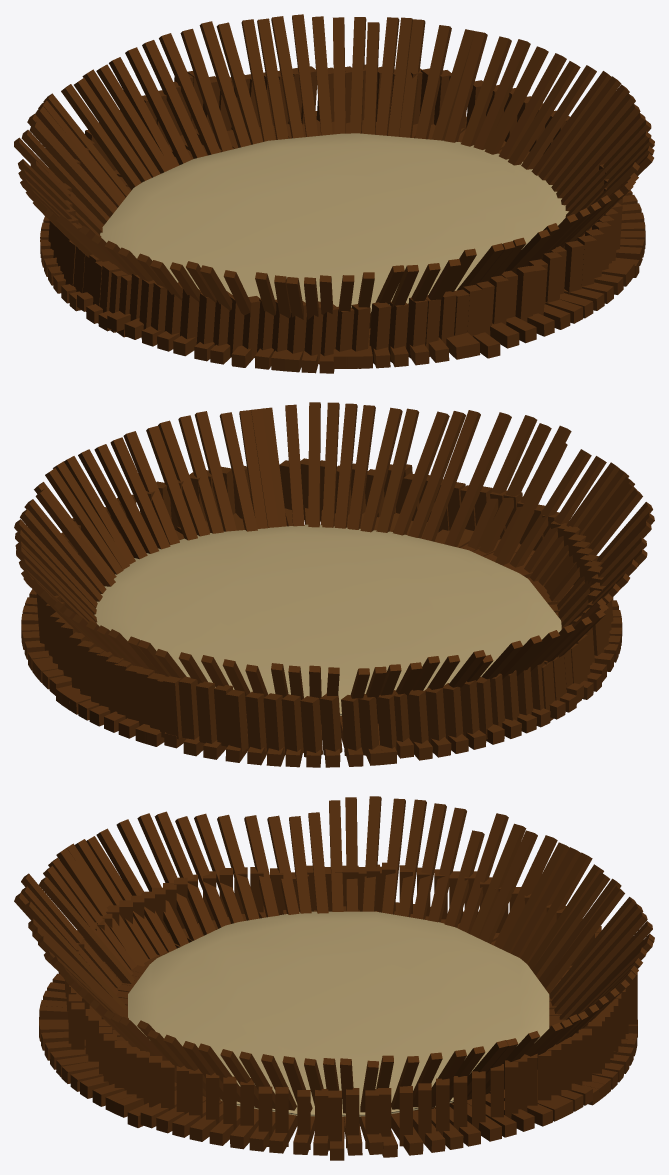
The model's file is nest.fbx.
The picture shows the model from 3 angles, top to bottom: view 1: azimuth 30°, elevation 25°; view 2: azimuth 150°, elevation 25°; view 3: azimuth 270°, elevation 25°; orthographic projection.
Visible parts, largest first — view 1: Mball, Cube.097, Cube.095, Cube.098, Cube.099, Cube.096, Cube.094, Cube.101, Cube.093, Cube.078, Cube.091, Cube.077 (+83 smaller); view 2: Mball, Cube.144, Cube.049, Cube.142, Cube.143, Cube.140, Cube.050, Cube.051, Cube.139, Cube.052, Cube.053, Cube.070 (+71 smaller); view 3: Mball, Cube.128, Cube.112, Cube.110, Cube.129, Cube.140, Cube.130, Cube.114, Cube.115, Cube.132, Cube.101, Cube.127 (+90 smaller).
Boxes of the visible parts, left/top/right/bottom form: Mball: left=100, top=133, right=568, bottom=312; Cube.097: left=159, top=33, right=220, bottom=155; Cube.095: left=199, top=21, right=251, bottom=147; Cube.098: left=142, top=40, right=206, bottom=158; Cube.099: left=125, top=47, right=191, bottom=164; Cube.096: left=180, top=28, right=232, bottom=151; Cube.094: left=216, top=22, right=263, bottom=144; Cube.101: left=96, top=64, right=171, bottom=173; Cube.093: left=241, top=19, right=275, bottom=141; Cube.078: left=473, top=39, right=530, bottom=149; Cube.091: left=271, top=16, right=304, bottom=138; Cube.077: left=484, top=46, right=548, bottom=154; Mball: left=94, top=524, right=561, bottom=715; Cube.144: left=444, top=412, right=511, bottom=546; Cube.049: left=421, top=410, right=480, bottom=541; Cube.142: left=479, top=423, right=551, bottom=553; Cube.143: left=467, top=415, right=537, bottom=549; Cube.140: left=495, top=439, right=567, bottom=565; Cube.050: left=408, top=411, right=465, bottom=538; Cube.051: left=393, top=411, right=449, bottom=535; Cube.139: left=509, top=449, right=591, bottom=567; Cube.052: left=376, top=408, right=419, bottom=532; Cube.053: left=360, top=407, right=402, bottom=532; Cube.070: left=78, top=449, right=147, bottom=559; Mball: left=128, top=911, right=549, bottom=1116; Cube.128: left=154, top=811, right=215, bottom=935; Cube.112: left=458, top=813, right=508, bottom=933; Cube.110: left=479, top=830, right=537, bottom=943; Cube.129: left=137, top=813, right=202, bottom=940; Cube.140: left=39, top=877, right=134, bottom=983; Cube.130: left=116, top=819, right=188, bottom=946; Cube.114: left=428, top=807, right=466, bottom=922; Cube.115: left=412, top=803, right=446, bottom=919; Cube.132: left=96, top=828, right=176, bottom=951; Cube.101: left=542, top=886, right=624, bottom=993; Cube.127: left=175, top=816, right=230, bottom=928.
Bounding box in the file's own units: 1256 × 293 × 1251.
